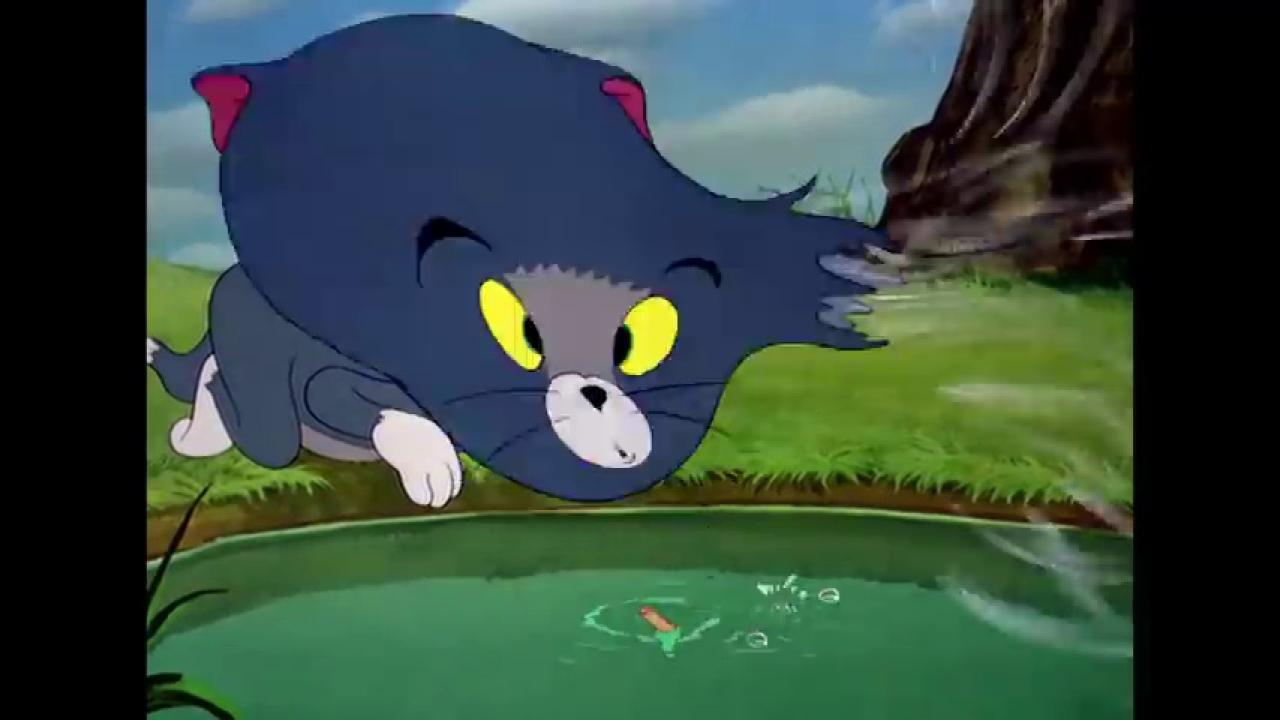Tom: (146, 12, 902, 512)
